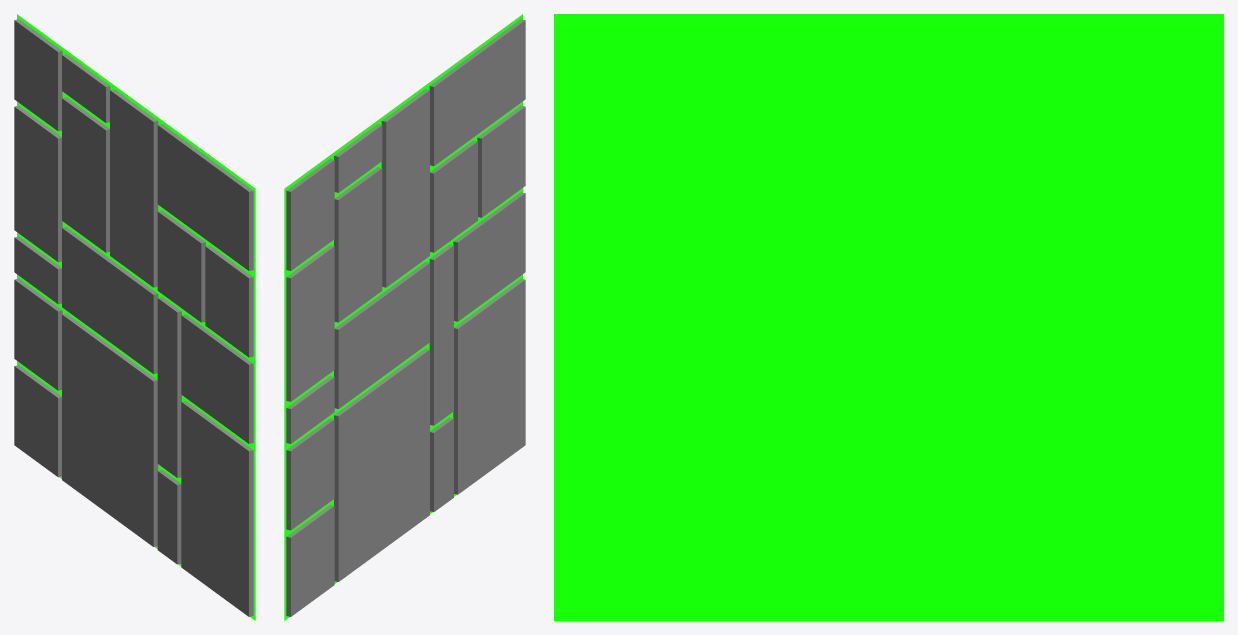
The model's file is Wall_14.FBX.
3 views of the same model, side by side, from view 1: azimuth 30°, elevation 25°; view 2: azimuth 150°, elevation 25°; view 3: azimuth 270°, elevation 25° (orthographic). The views are drawn at different scales.
Parts seen in each view (by area): view 1: Wall_14_LOD0; view 2: Wall_14_LOD0; view 3: Wall_14_LOD0.
Boxes of the visible parts, box(x1,y1,x2,y2) form: Wall_14_LOD0: box(14, 14, 255, 620); Wall_14_LOD0: box(284, 14, 525, 620); Wall_14_LOD0: box(554, 14, 1223, 620).
Size of what is drawn, in the model's own units: 2 by 180 by 180.
